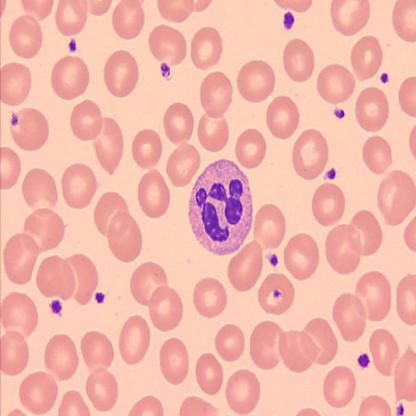Segmented neutrophil: (185, 156, 255, 256)
